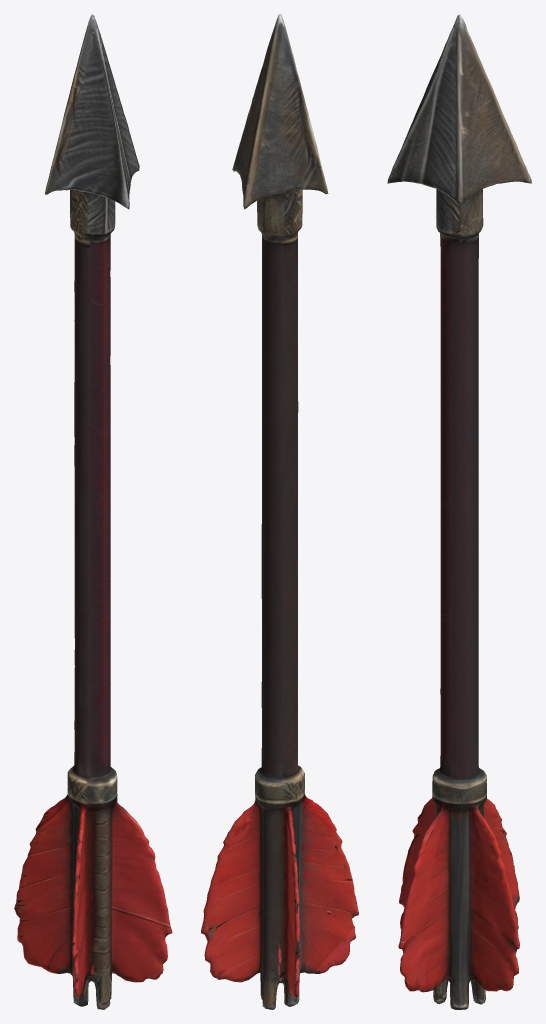
File: arrow_medium_quality.glb
3 views of the same model, side by side, from view 1: azimuth 30°, elevation 25°; view 2: azimuth 150°, elevation 25°; view 3: azimuth 270°, elevation 25° (orthographic).
Parts seen in each view (by area): view 1: Mesh1.0; view 2: Mesh1.0; view 3: Mesh1.0.
Part boxes in pixels (<box>): Mesh1.0: <box>14,14,172,1009</box>; Mesh1.0: <box>201,14,358,1009</box>; Mesh1.0: <box>387,14,531,1009</box>.
Size of the model in its own units: 0.2015 by 1.91 by 0.253.
1 material, 1 textured.
